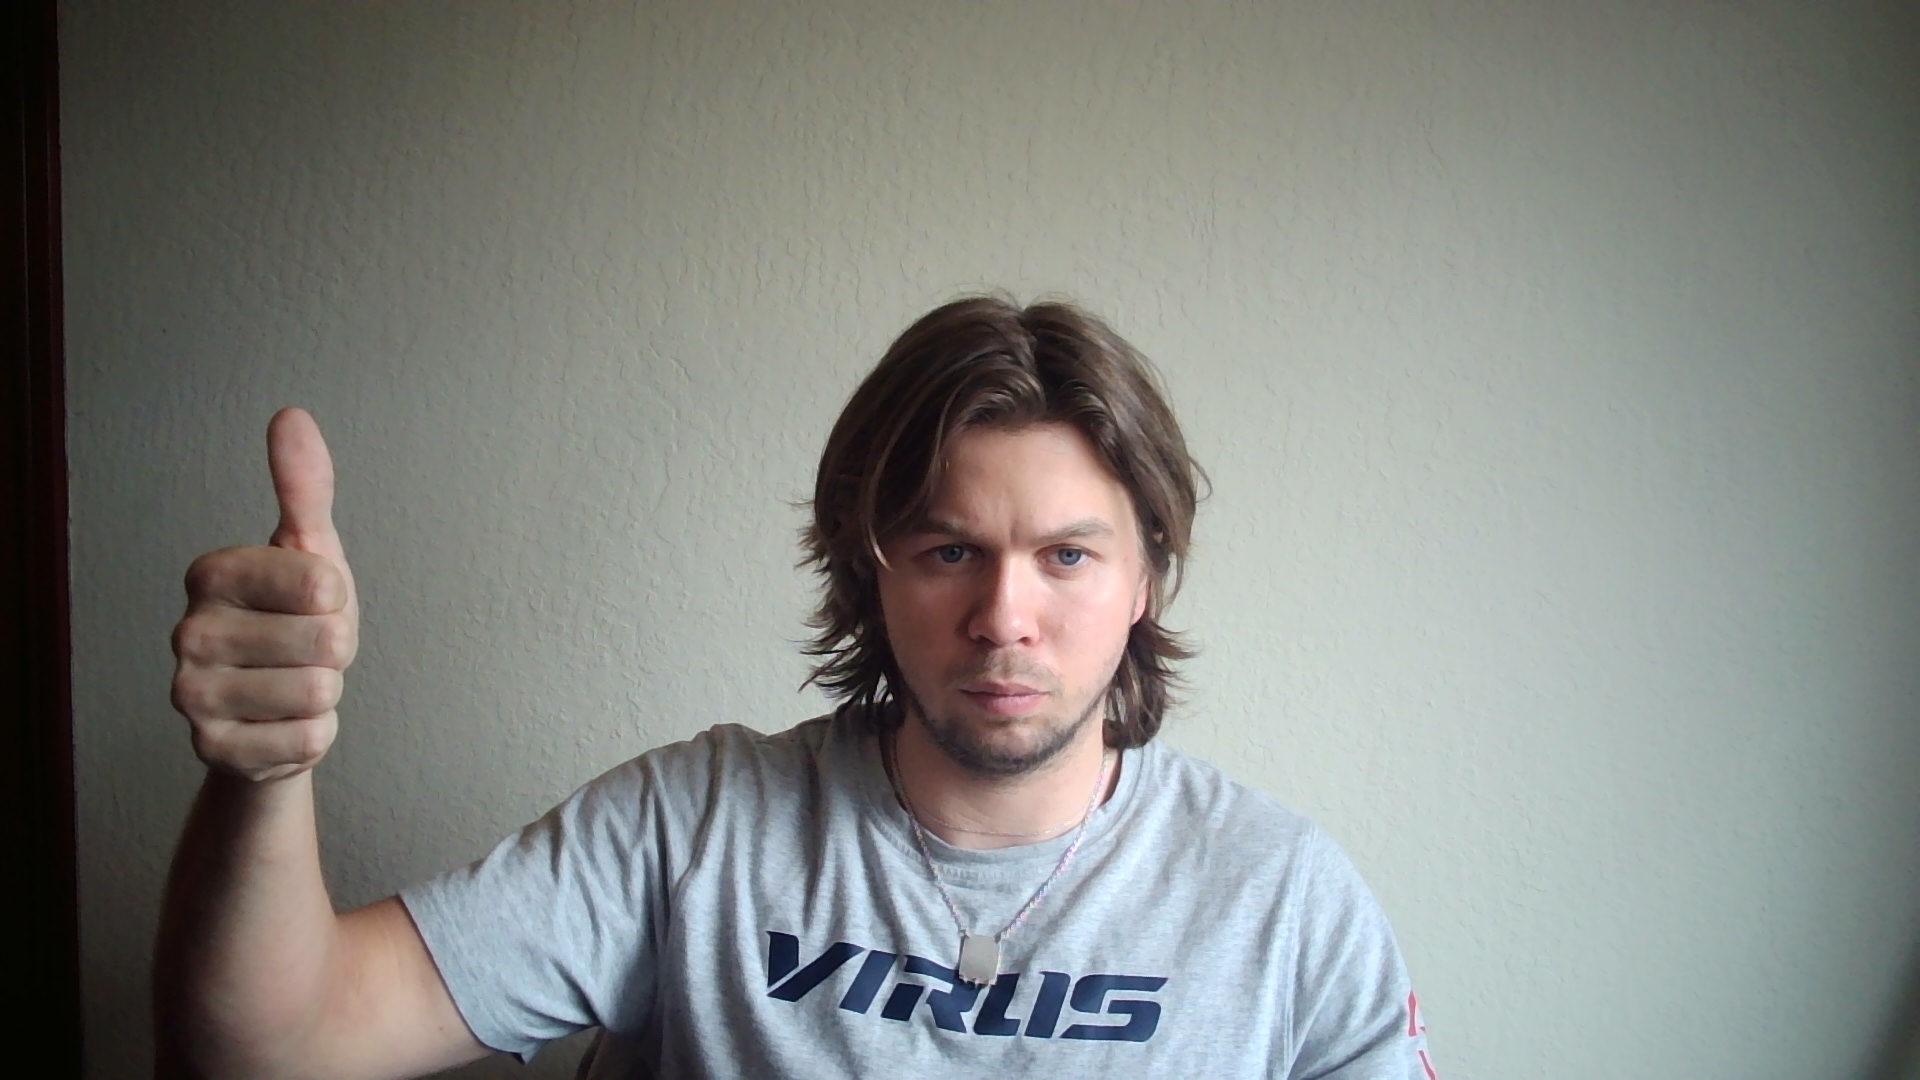good: (167, 407, 361, 783)
